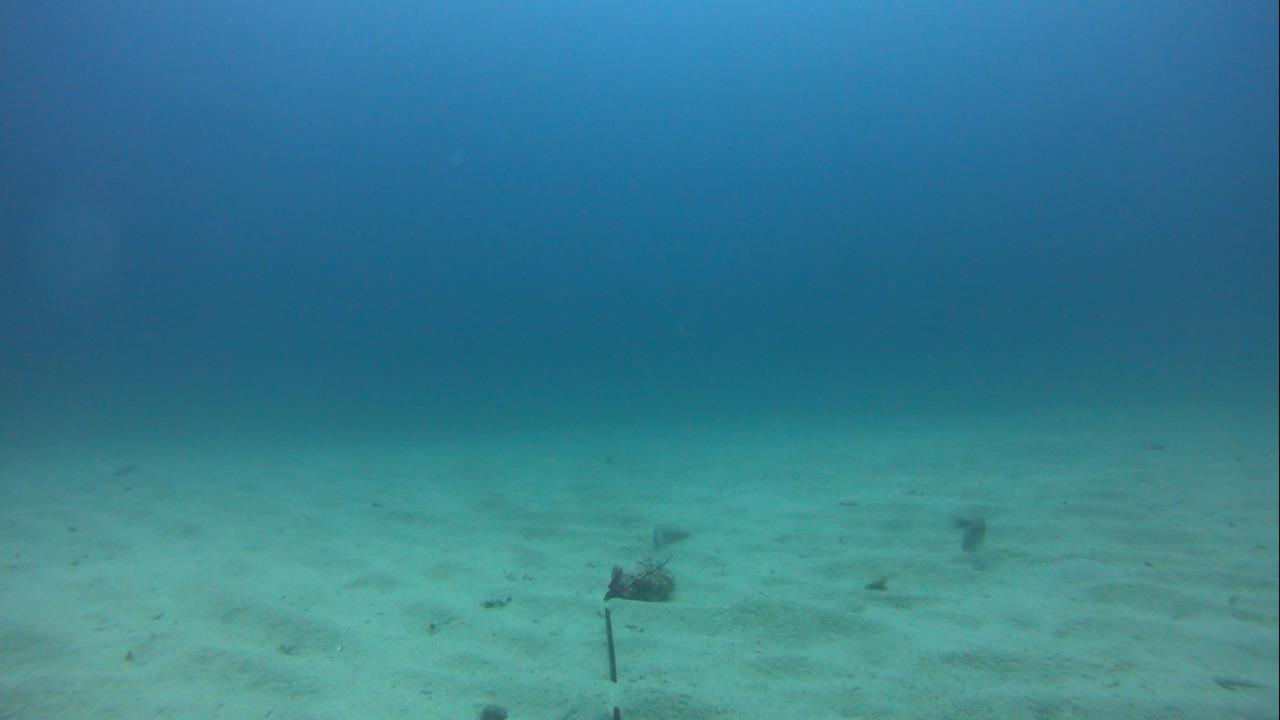raor: (641, 510, 704, 555), (947, 505, 994, 554)
